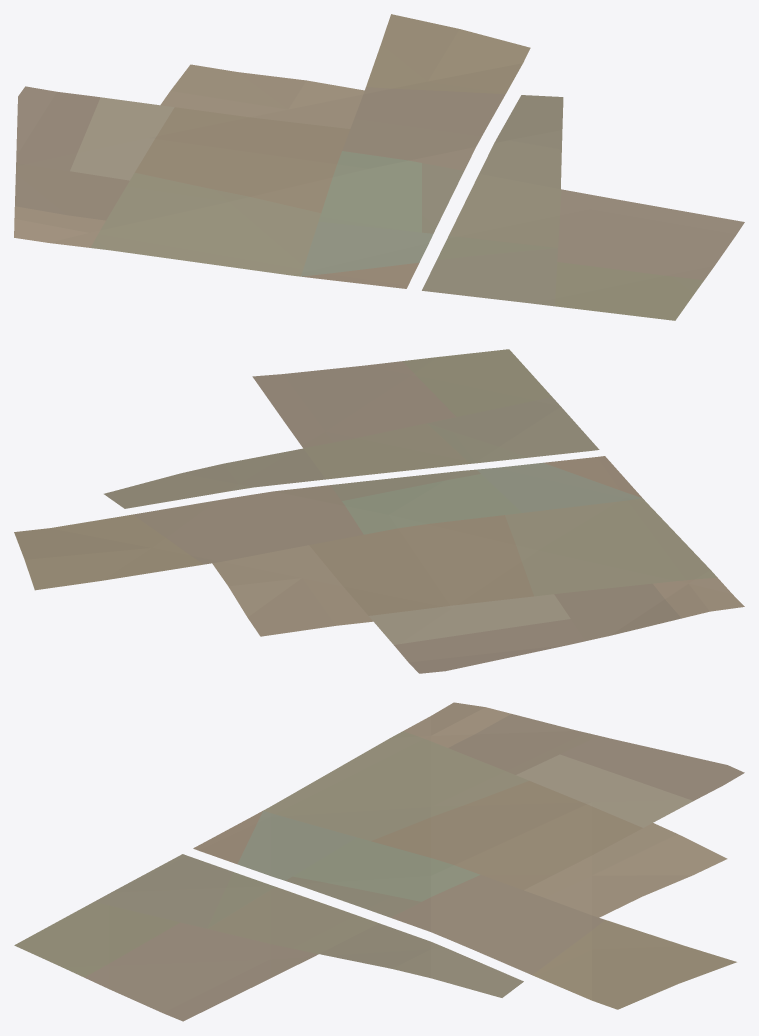
The model's file is farm_1_10_soil.glb.
3 views of the same model, one above another, from view 1: azimuth 30°, elevation 25°; view 2: azimuth 150°, elevation 25°; view 3: azimuth 270°, elevation 25° (orthographic). The views are drawn at different scales.
Visible parts, largest first — view 1: geometry_0; view 2: geometry_0; view 3: geometry_0.
Boxes of the visible parts, <box> form: geometry_0: <box>14,14,744,320</box>; geometry_0: <box>14,349,744,673</box>; geometry_0: <box>14,702,744,1021</box>.
Bounding box in the file's own units: 343 × 20.12 × 364.
